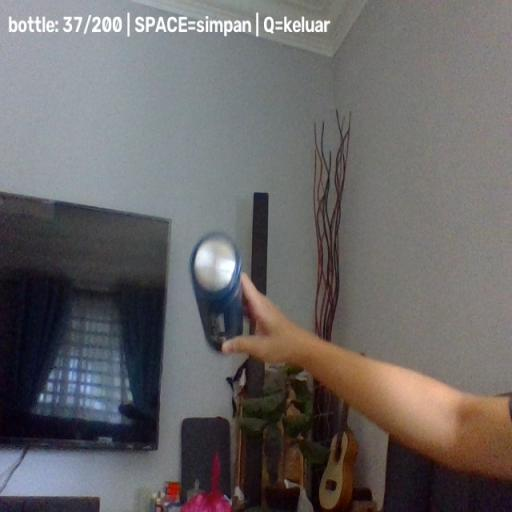Bottle: (189, 230, 245, 353)
